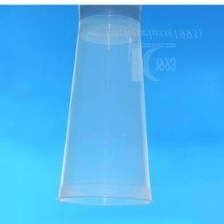glass: (53, 8, 163, 211)
